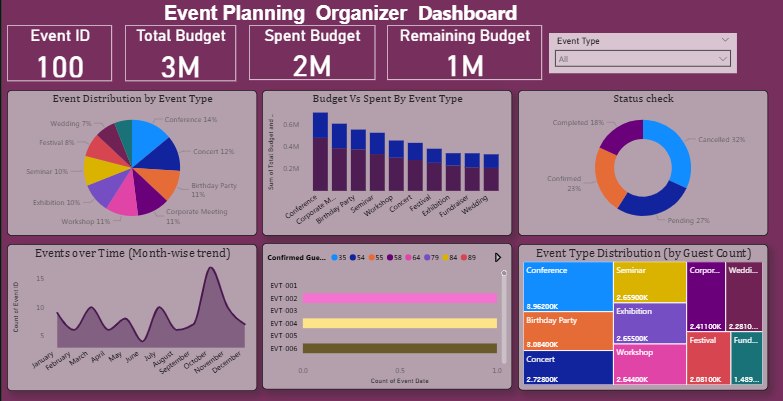

The page's visual inventory and layout, read from the dashboard file:
{"tool":"powerbi","page":{"name":"Page 1","canvas":[1280,720],"ordinal":0},"visuals":[{"type":"card","title":"Event ID","fields":{"Values":["CountNonNull(Event Planning.Event ID)"]},"box":[8.2,100,172.1,91.8],"z":0},{"type":"card","title":"Total Budget","fields":{"Values":["Sum(Event Planning.Total Budget)"]},"box":[201.6,100,181.9,91.8],"z":1000},{"type":"card","title":"Spent Budget","fields":{"Values":["Sum(Event Planning.Spent Budget)"]},"box":[404.8,100,206.5,90.1],"z":2000},{"type":"card","title":"Remaining Budget","fields":{"Values":["Sum(Event Planning.Remaining Budget)"]},"box":[631,100,254,90.1],"z":3000},{"type":"pieChart","title":"Event Distribution by Event Type","fields":{"Category":["Event Planning.Event Type"],"Y":["CountNonNull(Event Planning.Event ID)"]},"box":[8.2,206.5,409.7,239.3],"z":4000},{"type":"columnChart","title":"Budget Vs  Spent By Event Type","fields":{"Category":["Event Planning.Event Type"],"Y":["Sum(Event Planning.Total Budget)","Sum(Event Planning.Spent Budget)"]},"box":[426.1,206.5,409.7,239.3],"z":5000},{"type":"lineChart","title":"Events over Time (Month-wise trend)","fields":{"Category":["Event Planning.Event Date.Variation.Date Hierarchy.Month"],"Y":["CountNonNull(Event Planning.Event ID)"]},"box":[8.2,458.9,409.7,240.9],"z":6000},{"type":"barChart","title":"Events over Time (Month-wise trend)","fields":{"Y":["CountNonNull(Event Planning.Event Date)"],"Category":["Event Planning.Event ID"],"Series":["Event Planning.Confirmed Guests"]},"box":[426.7,458,410,240],"z":7000},{"type":"treemap","title":"Event Type Distribution (by Guest Count)","fields":{"Group":["Event Planning.Event Type"],"Values":["Sum(Event Planning.Confirmed Guests)"]},"box":[845.1,459.6,410,240],"z":8000},{"type":"donutChart","title":"Status check","fields":{"Category":["Event Planning.Status"],"Y":["CountNonNull(Event Planning.Event ID)"]},"box":[845.7,206.5,409.7,239.3],"z":9000},{"type":"slicer","fields":{"Values":["Event Planning.Event Type"]},"box":[896.5,113.1,308.1,65.6],"z":10000},{"type":"textbox","box":[95.1,52.4,919.4,60.6],"z":11000}]}

Visuals, with their boxes in screenshot pixels (x1, y1, x2, y2):
"Event ID" card: select_region(21, 33, 123, 87)
"Total Budget" card: select_region(136, 33, 243, 87)
"Spent Budget" card: select_region(256, 33, 378, 86)
"Remaining Budget" card: select_region(389, 33, 540, 86)
"Event Distribution by Event Type" pieChart: select_region(21, 96, 263, 237)
"Budget Vs  Spent By Event Type" columnChart: select_region(268, 96, 511, 237)
"Events over Time (Month-wise trend)" lineChart: select_region(21, 245, 263, 387)
"Events over Time (Month-wise trend)" barChart: select_region(269, 244, 511, 386)
"Event Type Distribution (by Guest Count)" treemap: select_region(516, 245, 759, 387)
"Status check" donutChart: select_region(516, 96, 759, 237)
slicer - Event Planning.Event Type: select_region(546, 40, 729, 79)
textbox: select_region(73, 4, 616, 40)
